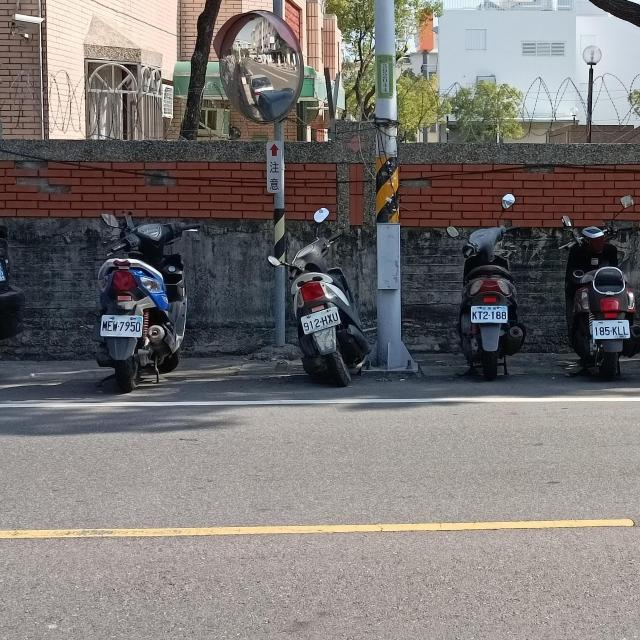W: (300, 307, 341, 333), (100, 314, 144, 338), (591, 320, 630, 339), (469, 305, 508, 323)
